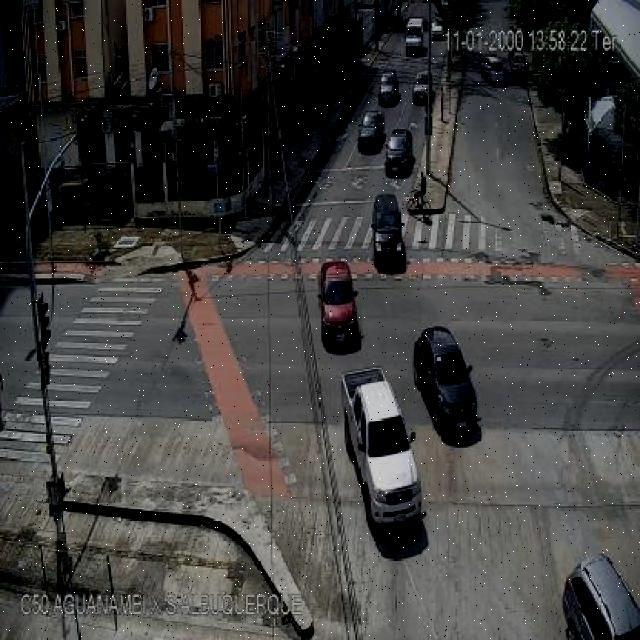Car: (412, 326, 479, 431), (561, 553, 640, 640), (318, 260, 360, 342), (370, 193, 405, 264), (386, 129, 414, 174), (357, 109, 385, 152), (378, 68, 399, 103), (412, 70, 433, 103), (481, 54, 503, 82), (509, 51, 528, 74), (431, 17, 445, 39)
Cycle: (403, 188, 432, 221)
Truck: (340, 364, 422, 531)
Van: (404, 17, 423, 55)
